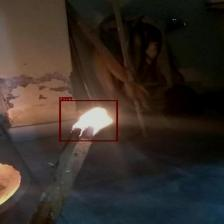fire: (59, 100, 118, 141)
